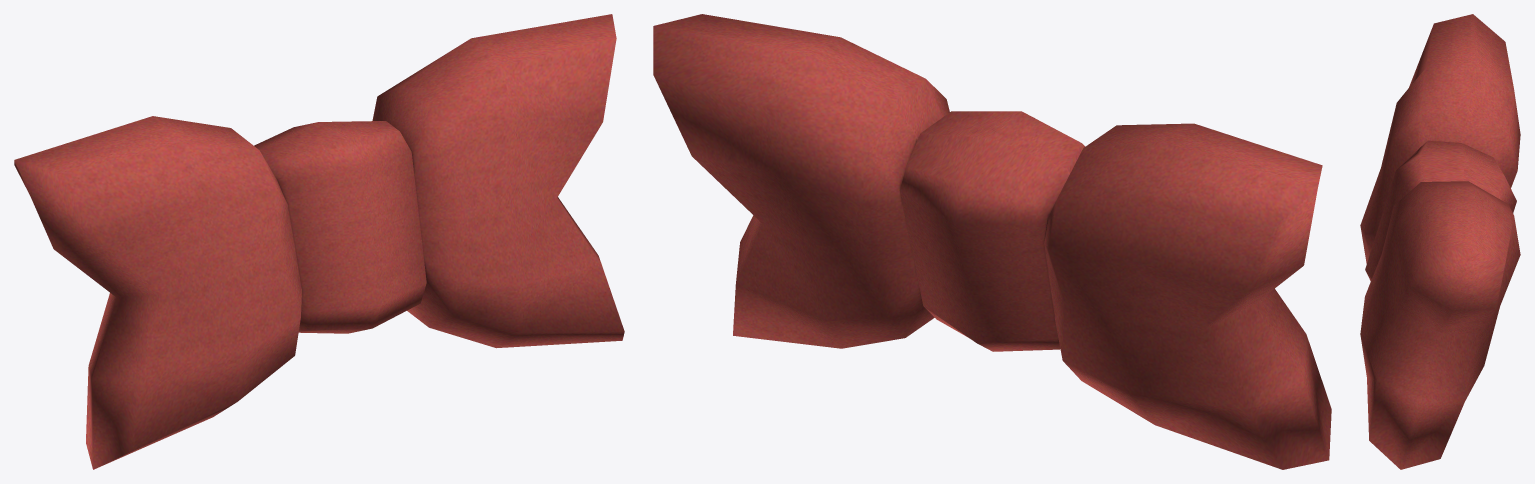
Rendered from Knot.fbx.
3 views of the same model, side by side, from view 1: azimuth 30°, elevation 25°; view 2: azimuth 150°, elevation 25°; view 3: azimuth 270°, elevation 25° (orthographic). The views are drawn at different scales.
Visible parts, largest first — view 1: Knot; view 2: Knot; view 3: Knot.
Boxes of the visible parts, left/top/right/bottom form: Knot: left=14, top=14, right=624, bottom=469; Knot: left=653, top=14, right=1331, bottom=469; Knot: left=1360, top=14, right=1520, bottom=469.
Size of the model in its own units: 25.17 by 11.85 by 7.19.
